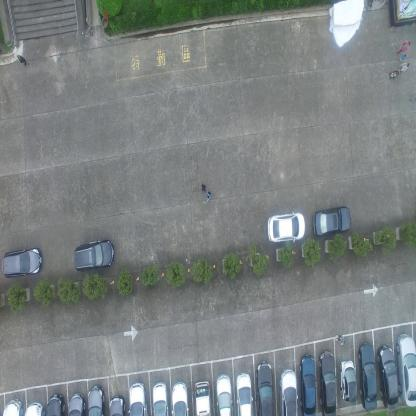car: (396, 331, 416, 407), (357, 341, 378, 410), (311, 204, 351, 240), (74, 237, 115, 271), (378, 344, 400, 406), (2, 246, 42, 279), (267, 211, 306, 244), (318, 350, 337, 416), (300, 352, 316, 415), (256, 360, 273, 415), (279, 368, 298, 415), (339, 358, 357, 404), (236, 370, 253, 415), (216, 373, 233, 415), (194, 378, 212, 416), (128, 381, 148, 415), (171, 381, 189, 415), (152, 380, 169, 415), (87, 384, 105, 416), (46, 394, 66, 416), (68, 392, 86, 416), (2, 398, 23, 416), (109, 394, 126, 416), (24, 401, 45, 415)
